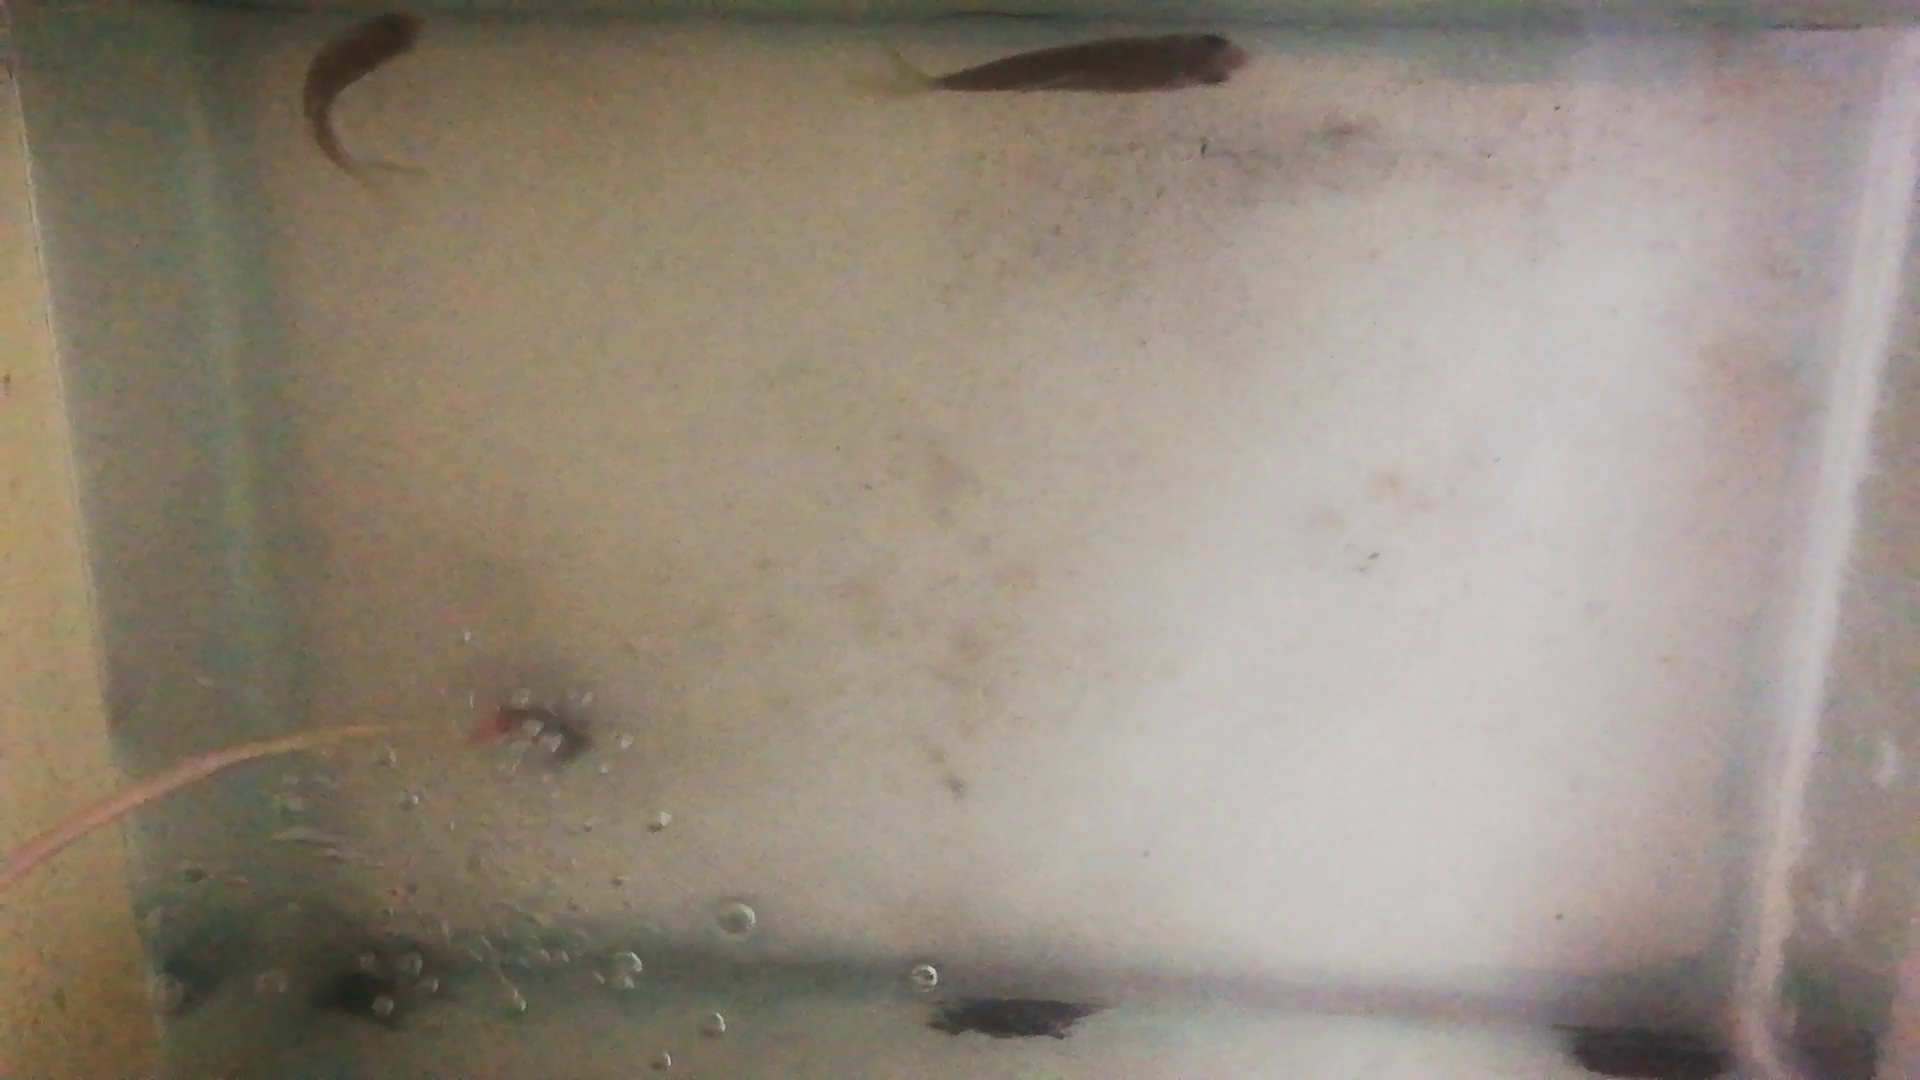fish: (932, 29, 1251, 95), (303, 11, 429, 167)
